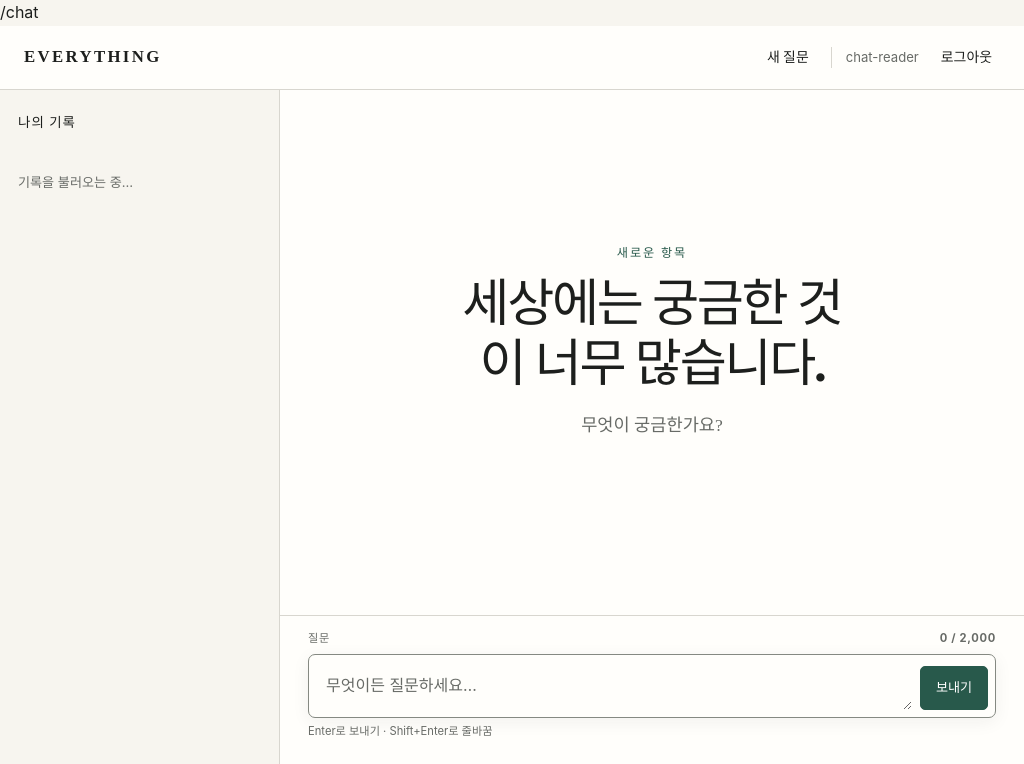
Scenario: ChatPage › preserves the submitted question when history authentication expires first
Note: 사용자가 인증 만료 뒤에도 복원되어야 할 질문을 입력한다.
Type "로그인 뒤 이어갈 질문" into the text box labelled "질문" at coordinates (614, 686), box [316,662,912,710]
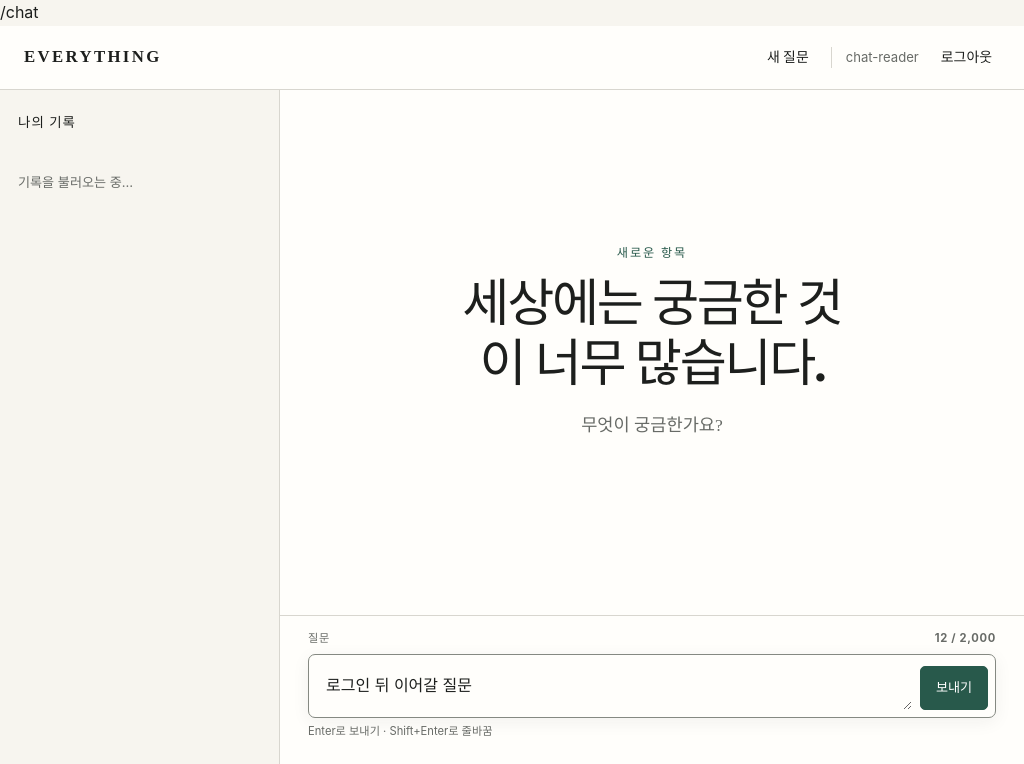
Note: 질문 POST를 시작해 입력칸이 비워지는 상황을 만든다.
Click the button with aria-label "질문 보내기" at coordinates (954, 688), box [920,666,988,710]
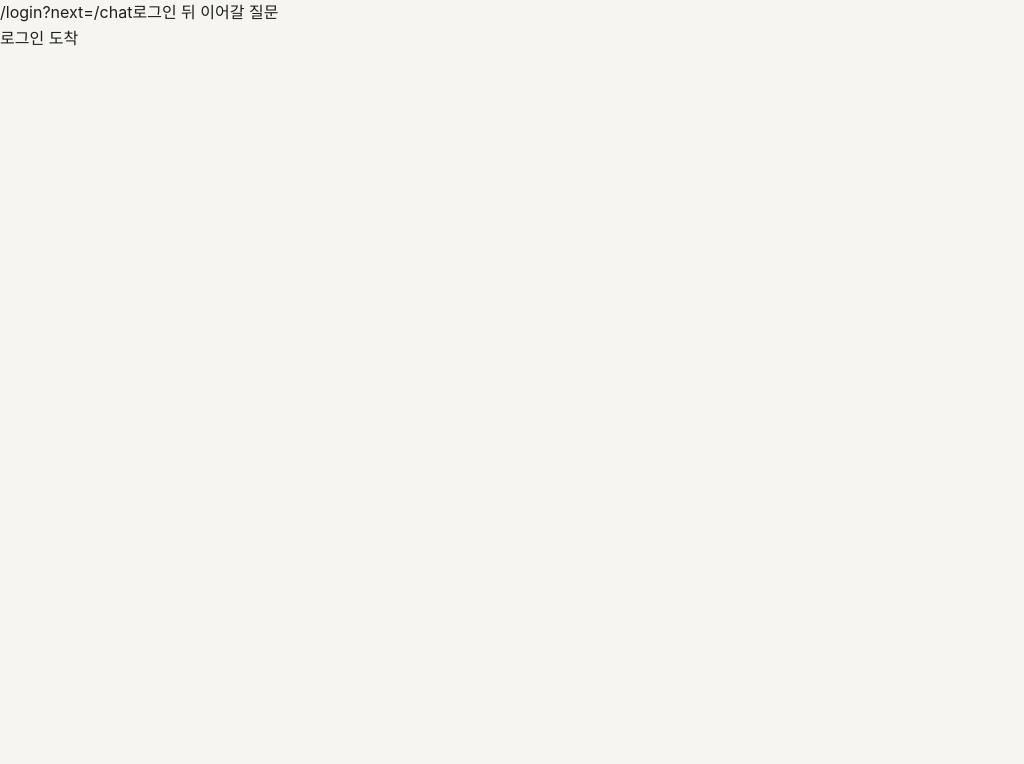
Expected: the text "로그인 도착" is shown, [0,28,78,48]
Expected: the text with test id "pending-question" reads "로그인 뒤 이어갈 질문", [132,2,278,22]
Expected: the text with test id "current-location" reads "/login?next=/chat", [0,2,132,22]
